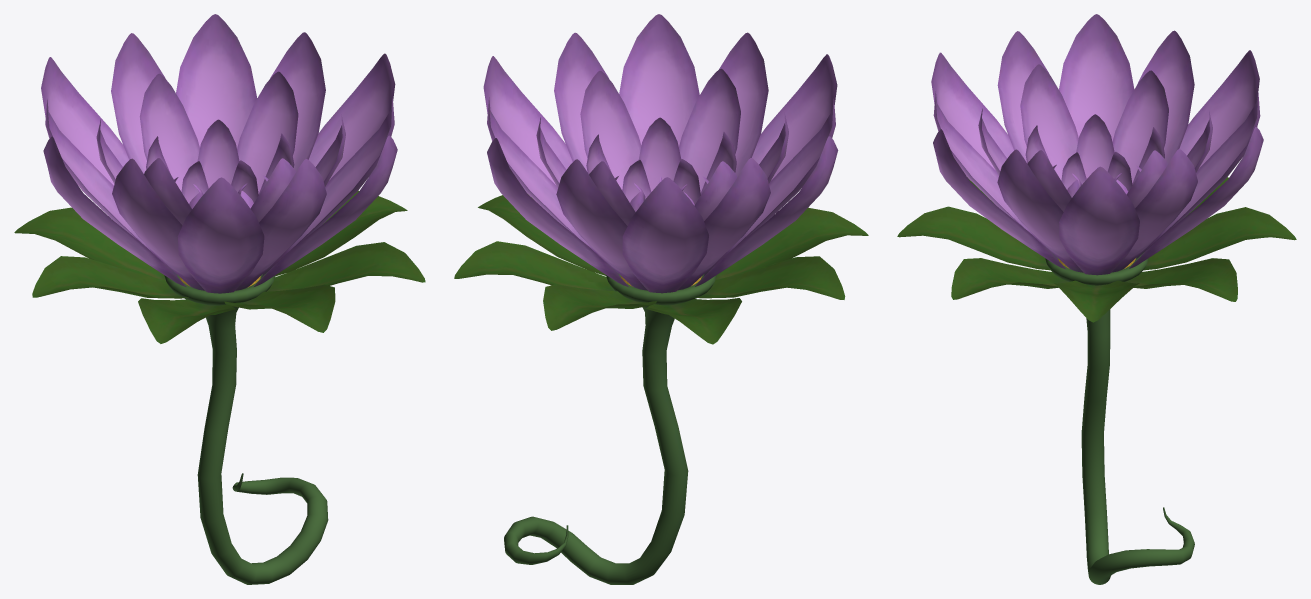
The model's file is lotus-flower.glb.
3 renders of one model, left to right at view 1: azimuth 30°, elevation 25°; view 2: azimuth 150°, elevation 25°; view 3: azimuth 270°, elevation 25°, orthographic. The views are drawn at different scales.
Visible parts, largest first — view 1: Flower_Lotus-Stylized; view 2: Flower_Lotus-Stylized; view 3: Flower_Lotus-Stylized.
Part boxes in pixels (left/top/right/bottom): Flower_Lotus-Stylized: left=14, top=14, right=425, bottom=584; Flower_Lotus-Stylized: left=454, top=14, right=868, bottom=584; Flower_Lotus-Stylized: left=897, top=14, right=1296, bottom=584.
Size of the model in its own units: 22.23 by 28.65 by 22.23.
Materials: 1 (1 with a texture image).
